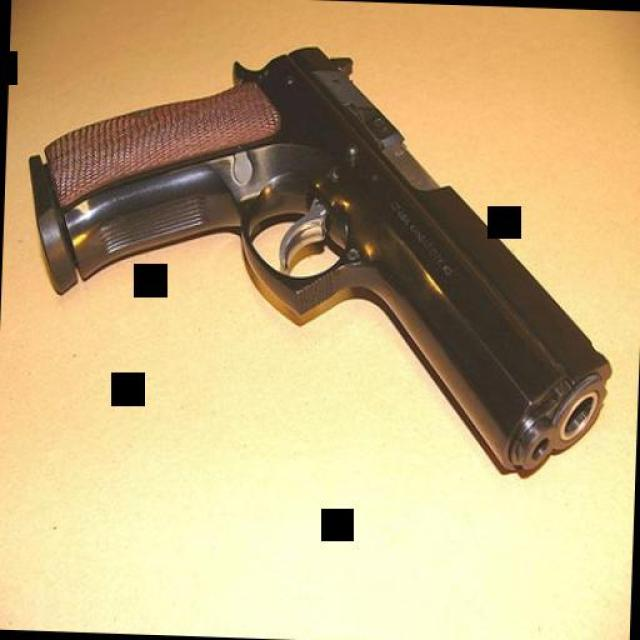gun: (14, 15, 620, 483)
